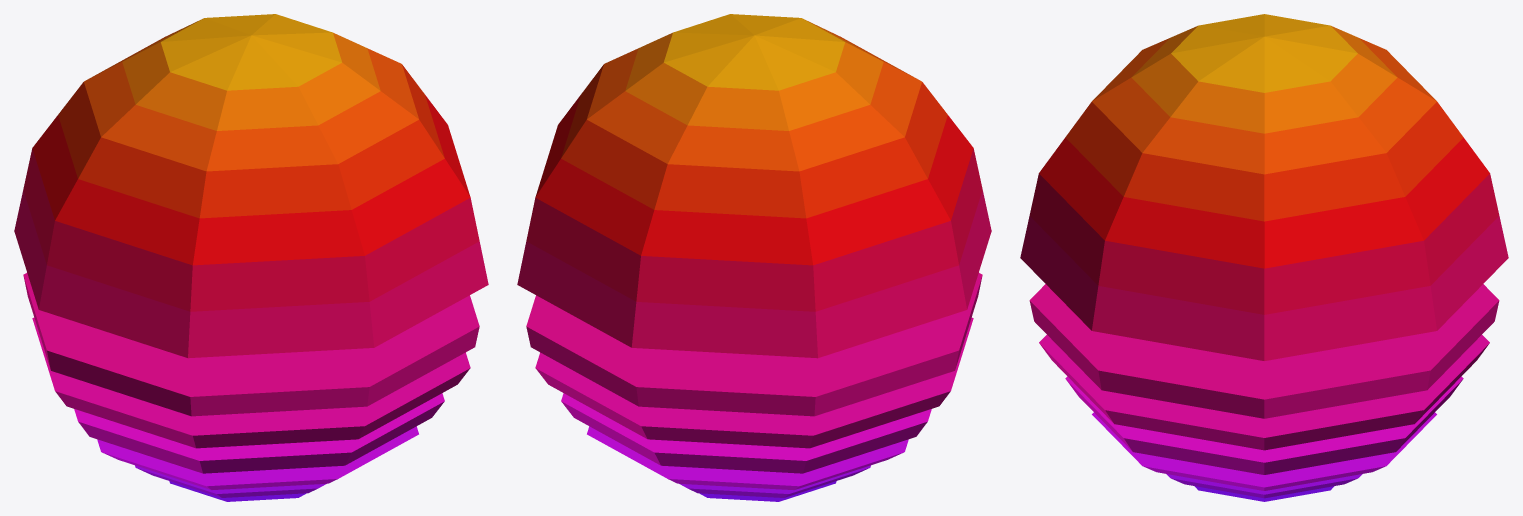
The model's file is Player.fbx.
3 renders of one model, left to right at view 1: azimuth 30°, elevation 25°; view 2: azimuth 150°, elevation 25°; view 3: azimuth 270°, elevation 25°, orthographic.
Parts seen in each view (by area): view 1: Sphere; view 2: Sphere; view 3: Sphere.
Part boxes in pixels (x1,y1,x2,y2): Sphere: (14,14,488,501); Sphere: (517,14,991,501); Sphere: (1020,14,1508,501).
Bounding box in the file's own units: 200 × 200 × 200.
